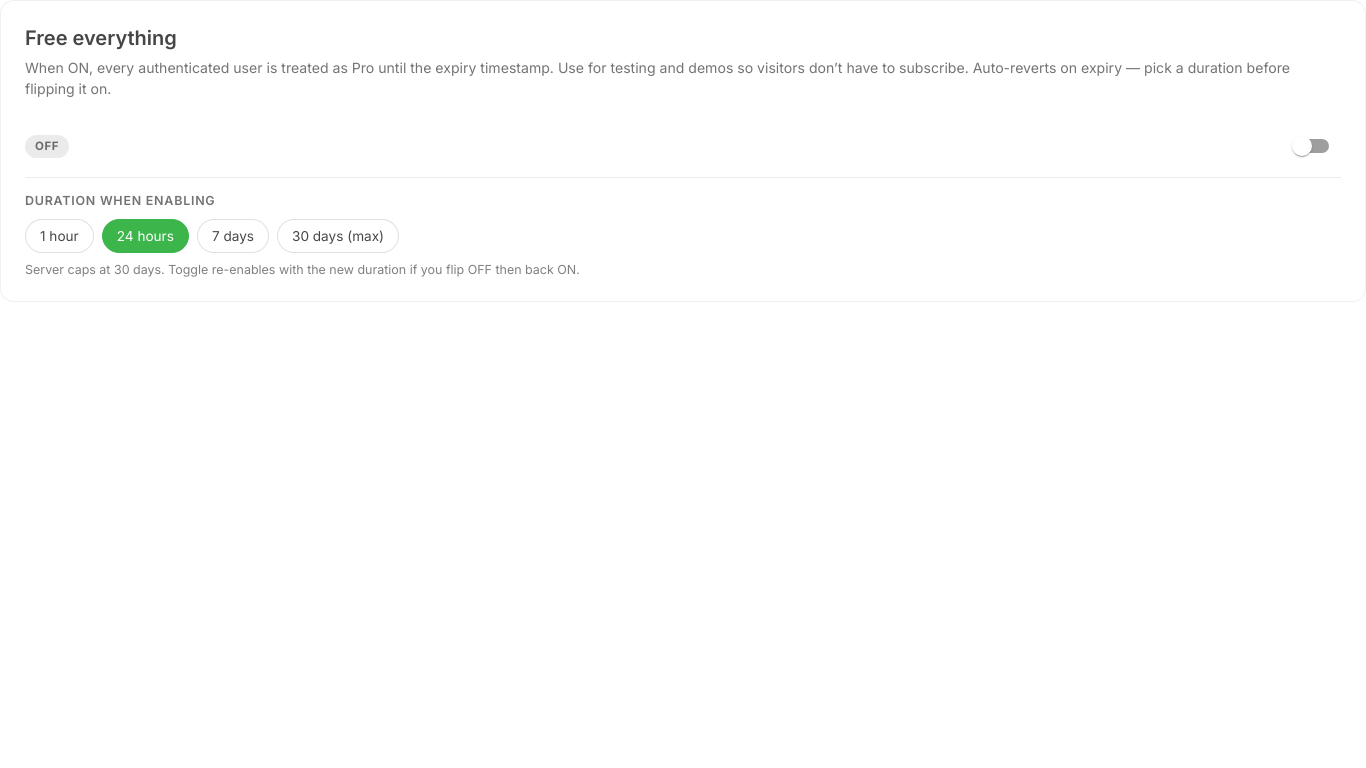
Scenario: FreeEverythingCard › cancels a pending toggle without mutating
The image size is (1366, 768).
Click the checkbox named "Toggle free-everything mode": (1302, 146) [1292, 136, 1312, 156]
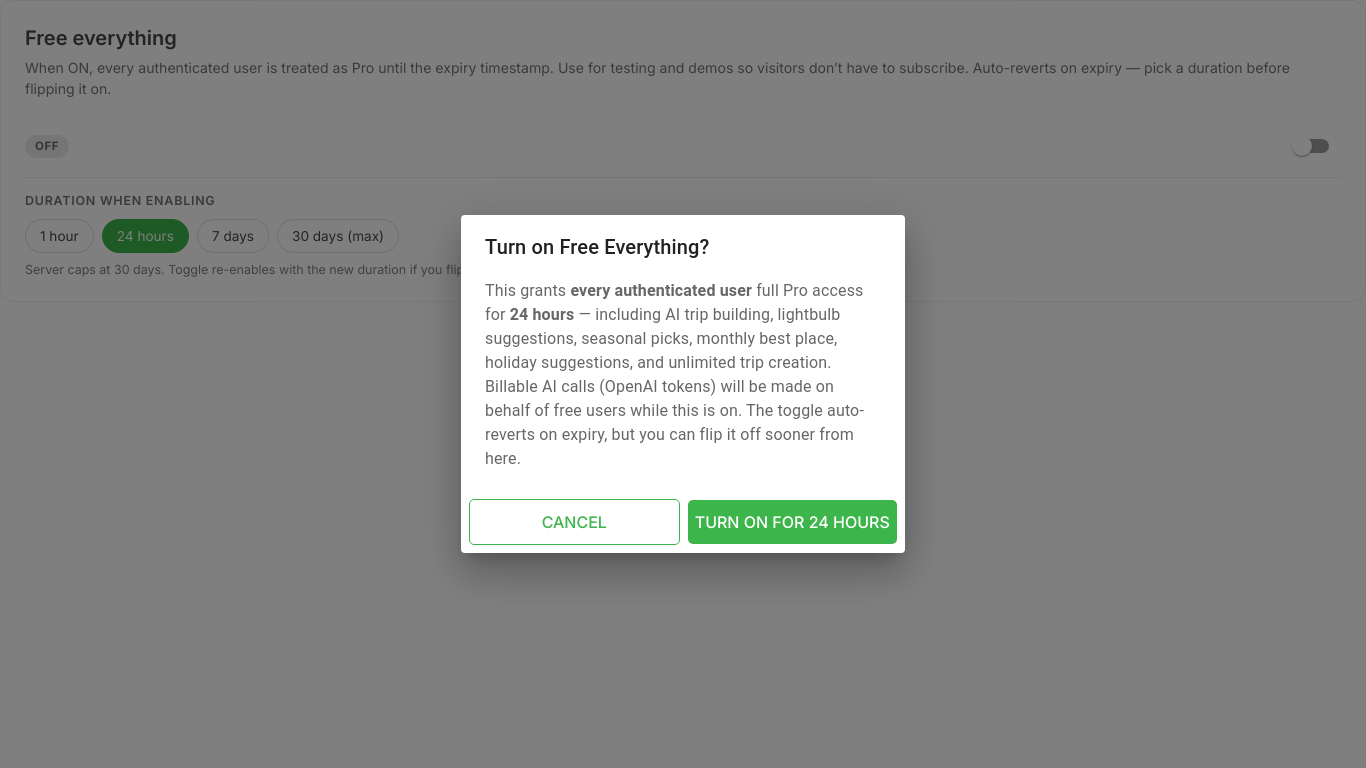
Click the button "Cancel": (574, 522) [469, 499, 680, 545]
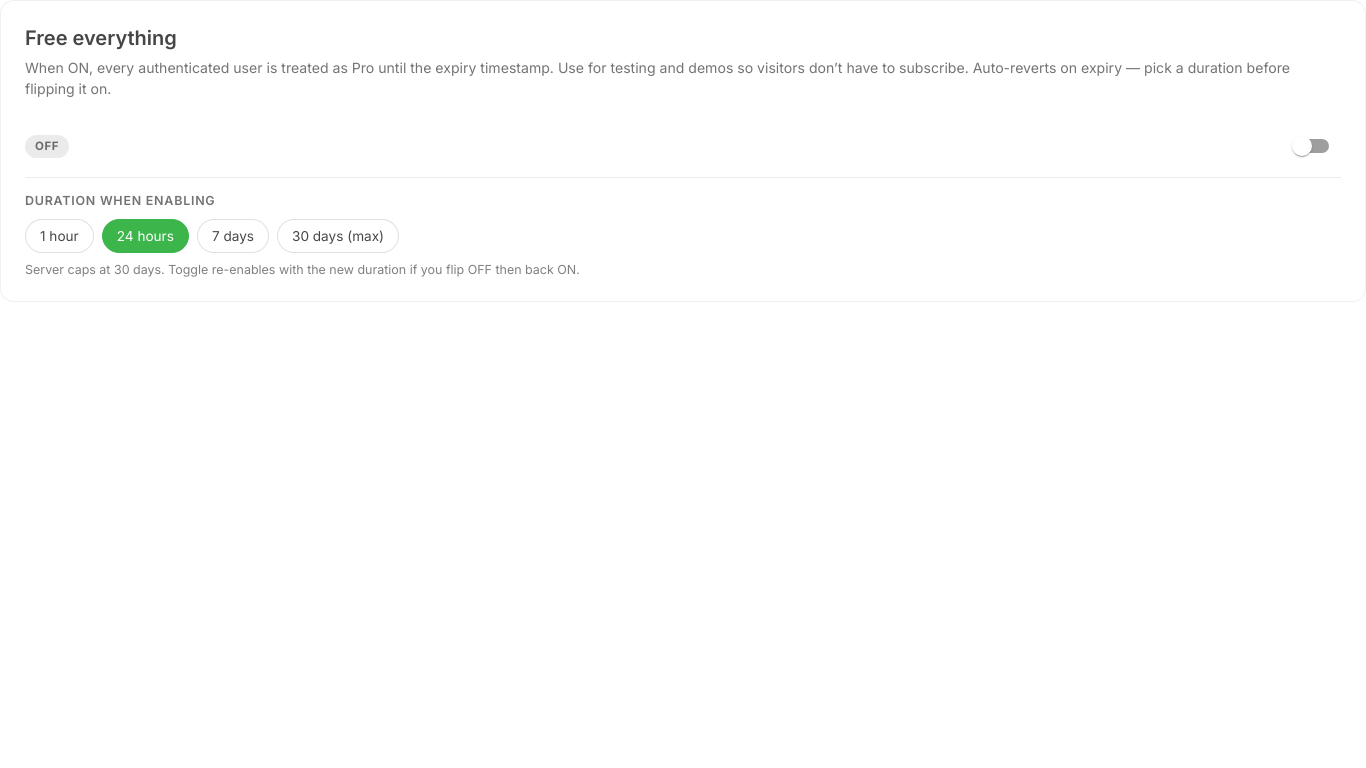
Result: the heading "Turn on Free Everything?" is gone
